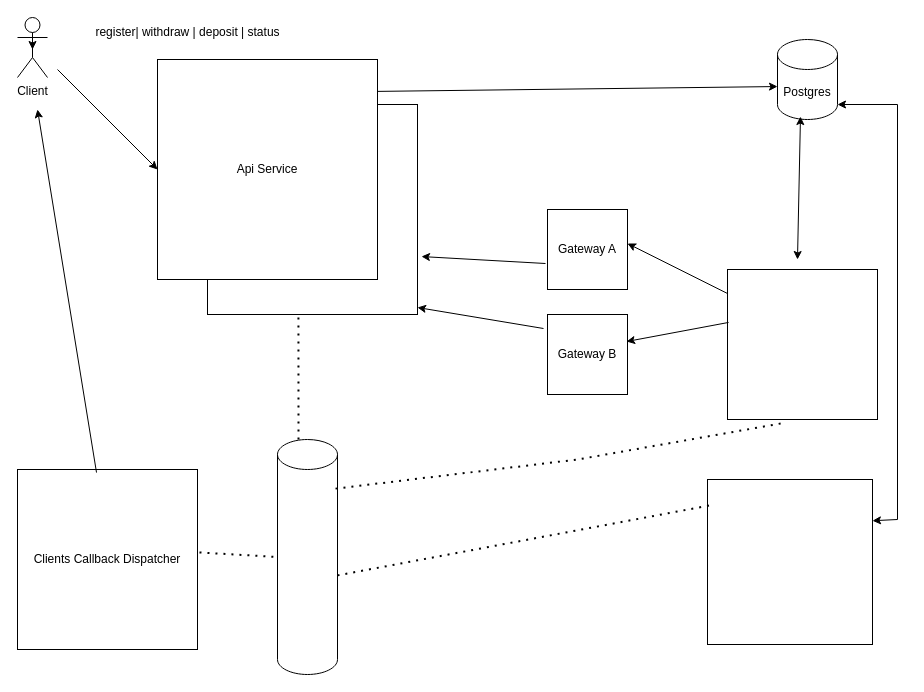
Some shapes in this 924 by 692 pixel diagram are drawn without their labels. Each missing label, with the centre of its shape:
"Callback Processor" belongs at [789,561].
"Kafka" belongs at [307,556].
"Payment Processor" belongs at [802,344].
